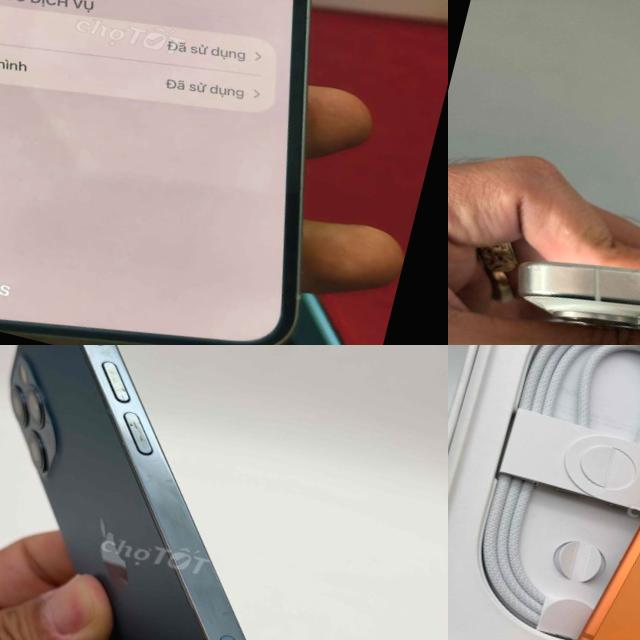scratch: (522, 260, 544, 273)
